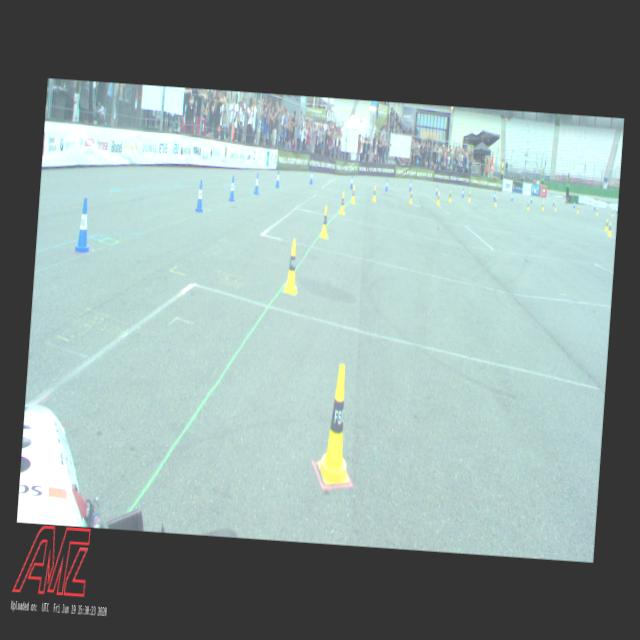blue_cone: (72, 196, 94, 252), (195, 180, 205, 212), (228, 174, 236, 201), (253, 172, 260, 194), (274, 169, 280, 187), (308, 168, 314, 184), (349, 174, 353, 188), (384, 178, 388, 191), (408, 180, 412, 191), (435, 184, 438, 196), (492, 192, 496, 200), (510, 192, 513, 201), (462, 186, 464, 198), (530, 195, 532, 203), (552, 198, 554, 205)
yellow_cone: (316, 362, 357, 486), (283, 238, 300, 294), (320, 204, 330, 238), (338, 191, 346, 215), (350, 184, 356, 203), (607, 220, 613, 237), (372, 185, 376, 202), (604, 218, 609, 231), (408, 190, 412, 204), (448, 189, 452, 202), (436, 191, 440, 204), (493, 196, 497, 207), (467, 190, 471, 201), (540, 201, 544, 210), (526, 200, 529, 210), (554, 202, 556, 210)
